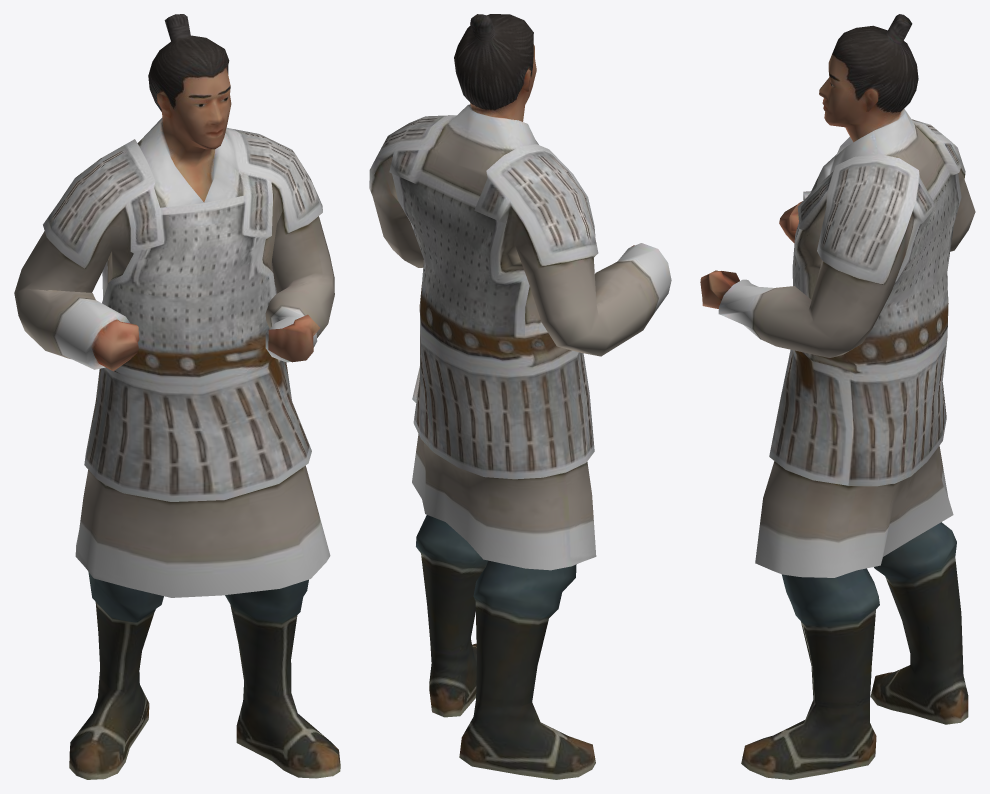
The model's file is body-championarchers.glb.
3 views of the same model, side by side, from view 1: azimuth 30°, elevation 25°; view 2: azimuth 150°, elevation 25°; view 3: azimuth 270°, elevation 25° (orthographic).
Size of the model in its own units: 0.8319 by 2.11 by 0.7278.
1 material, 1 textured.
